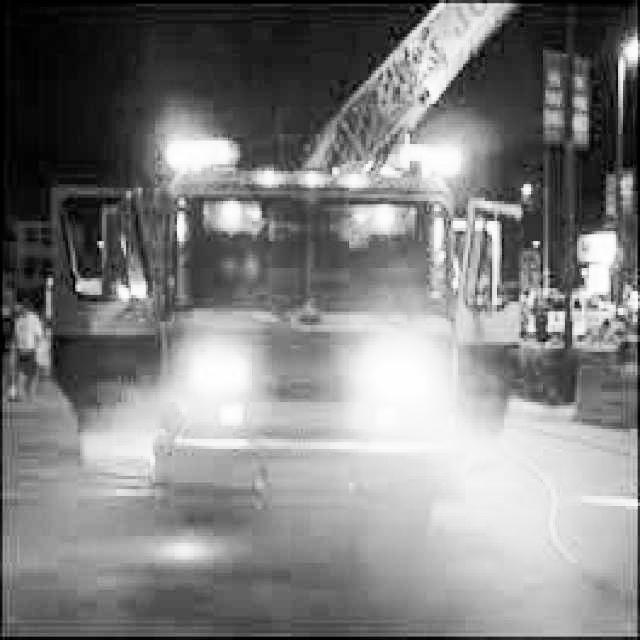Truck: (46, 134, 529, 533)
